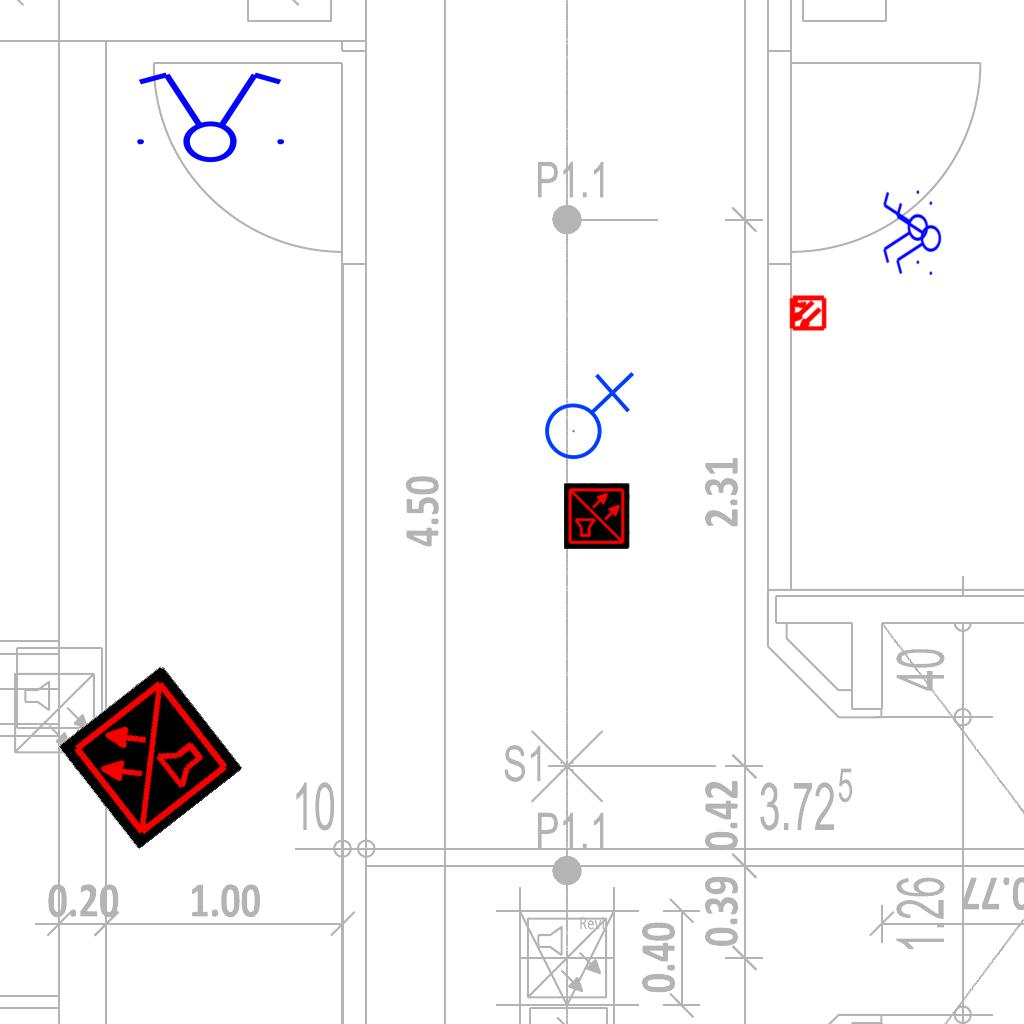Elektroanschluss_allgemein_230V_Geraeteanschlussdose_230V: (536, 367, 635, 461)
OKW_Multisensormelder_(Kombination_optischer_Rauch-Kahlenmonoxid_Waerme-Melder): (57, 664, 243, 850), (564, 483, 630, 549)
OT_Multisensormelder_(Kombination_RMO_WMD): (779, 285, 835, 341)
Serienschalter: (125, 68, 293, 164), (881, 186, 929, 270), (894, 197, 942, 281)
